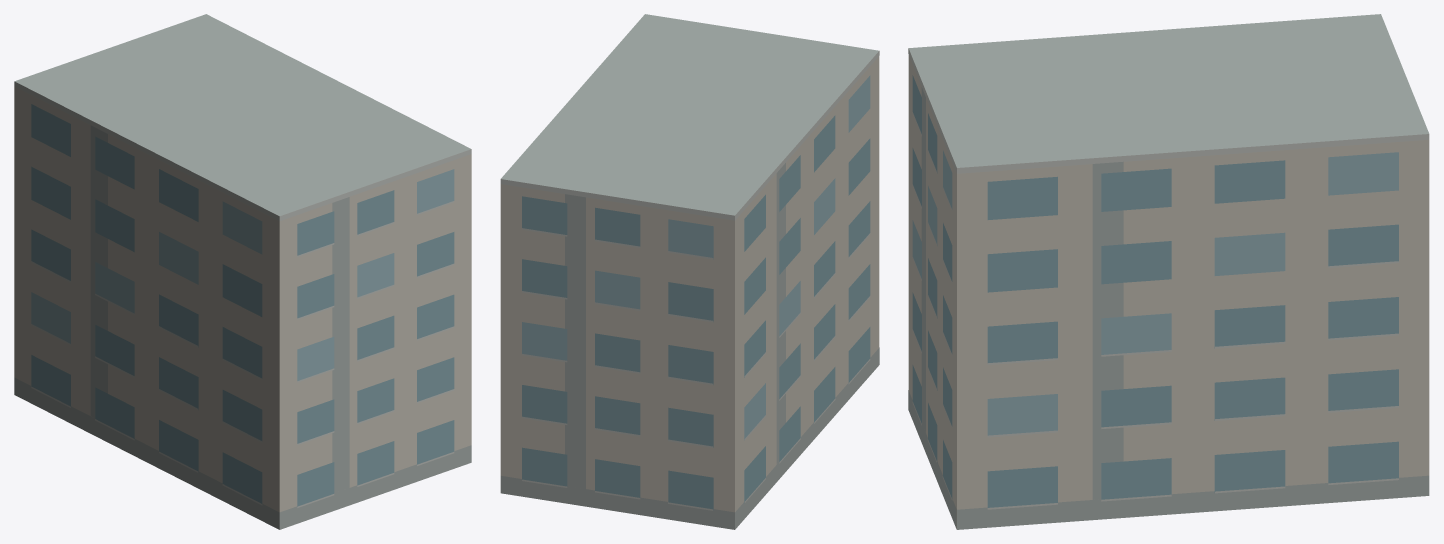
The model's file is residential-65e0aef6-6e0a-4c3b-b1d8-2838d27c2e89.glb.
3 views of the same model, side by side, from view 1: azimuth 30°, elevation 25°; view 2: azimuth 150°, elevation 25°; view 3: azimuth 270°, elevation 25° (orthographic). The views are drawn at different scales.
Parts seen in each view (by area): view 1: residential-65e0aef6-6e0a-4c3b-b1d8-2838d27c2e89.tmp; view 2: residential-65e0aef6-6e0a-4c3b-b1d8-2838d27c2e89.tmp; view 3: residential-65e0aef6-6e0a-4c3b-b1d8-2838d27c2e89.tmp.
Boxes of the visible parts, x1=… form: residential-65e0aef6-6e0a-4c3b-b1d8-2838d27c2e89.tmp: x1=14, y1=14, x2=471, y2=529; residential-65e0aef6-6e0a-4c3b-b1d8-2838d27c2e89.tmp: x1=500, y1=14, x2=879, y2=529; residential-65e0aef6-6e0a-4c3b-b1d8-2838d27c2e89.tmp: x1=908, y1=14, x2=1429, y2=529.
Size of the model in its own units: 13.93 by 15.25 by 19.9.
